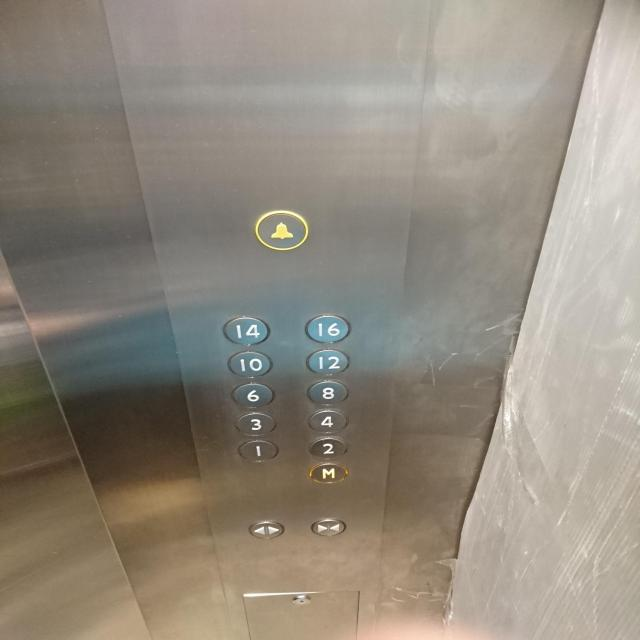1: (237, 439, 279, 462)
10: (226, 349, 273, 378)
12: (305, 348, 351, 375)
14: (222, 315, 270, 346)
16: (304, 314, 352, 344)
2: (307, 436, 348, 460)
3: (234, 411, 277, 436)
4: (306, 408, 349, 433)
6: (231, 381, 275, 408)
8: (306, 380, 350, 406)
M: (309, 462, 348, 484)
alarm: (254, 210, 308, 251)
close: (310, 517, 346, 536)
keyhole: (291, 595, 311, 606)
open: (248, 520, 285, 540)
